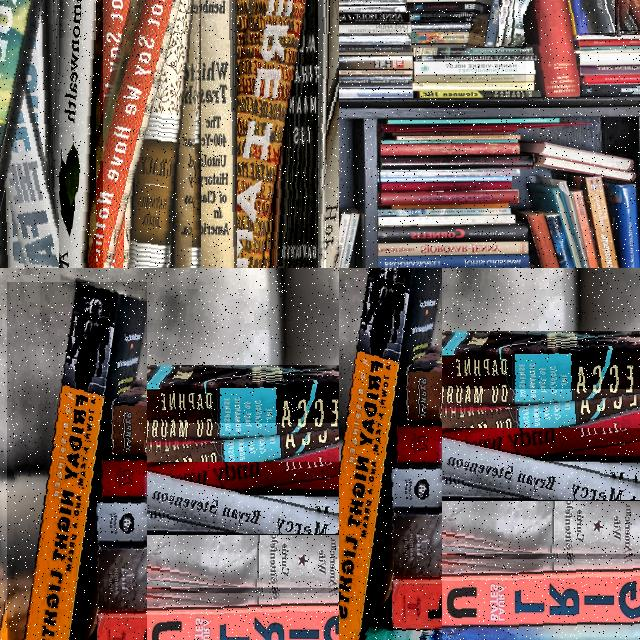Books: (19, 282, 146, 640), (339, 268, 441, 640), (63, 0, 181, 268), (209, 0, 308, 268), (379, 428, 640, 527), (84, 462, 339, 560), (375, 554, 640, 632), (384, 405, 640, 485), (89, 441, 339, 519), (394, 334, 640, 412), (99, 368, 339, 446), (33, 0, 96, 268), (377, 502, 640, 563), (82, 536, 339, 597), (182, 0, 236, 268), (80, 588, 339, 640), (155, 0, 199, 268), (288, 0, 325, 268), (526, 0, 579, 97), (379, 224, 529, 242), (379, 190, 520, 206), (379, 241, 529, 256), (381, 155, 535, 168), (379, 255, 531, 268), (414, 61, 533, 76), (379, 215, 516, 226), (499, 0, 532, 44), (381, 181, 512, 192), (379, 167, 521, 177), (379, 207, 512, 217), (412, 46, 531, 56), (339, 55, 414, 70), (412, 82, 531, 91), (583, 0, 615, 33), (414, 90, 536, 98), (553, 0, 579, 35), (576, 52, 640, 66), (339, 75, 412, 87), (339, 12, 411, 24), (574, 34, 640, 47), (486, 0, 504, 47), (411, 31, 469, 45), (414, 75, 530, 82), (407, 2, 488, 12), (339, 34, 410, 45), (580, 84, 640, 97), (578, 64, 640, 76), (339, 24, 412, 34), (414, 55, 535, 61), (599, 0, 618, 36), (339, 89, 414, 98), (580, 74, 640, 85), (411, 12, 476, 22), (339, 5, 407, 14), (412, 22, 471, 32), (339, 45, 412, 53), (500, 0, 511, 47), (574, 34, 640, 41), (574, 46, 640, 53), (339, 70, 412, 76), (339, 0, 407, 6)
